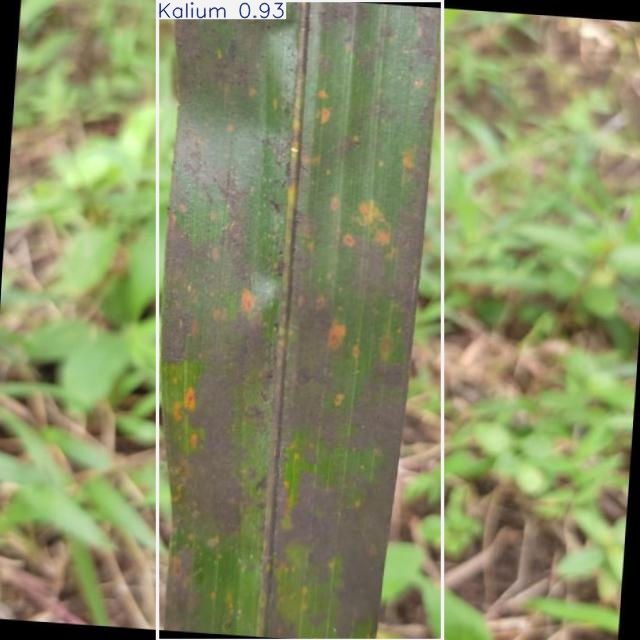Kalium: (158, 0, 442, 640)
